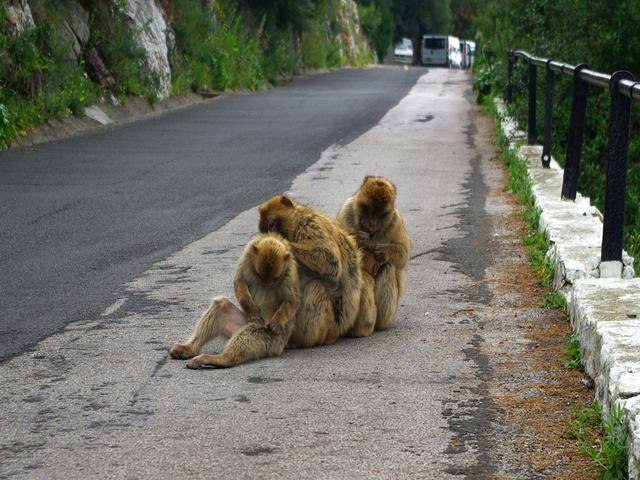monkey: (168, 231, 306, 363), (325, 171, 427, 318)
